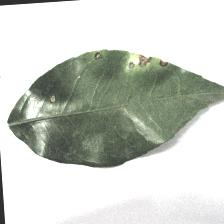canker: (97, 52, 175, 86)
